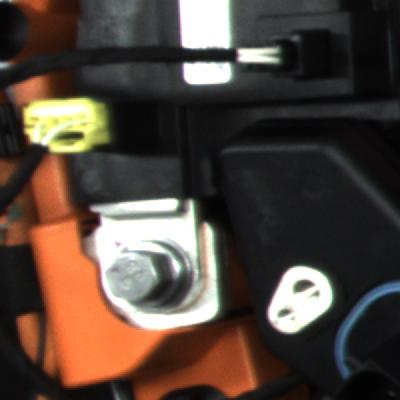nut_b: (89, 232, 200, 320)
